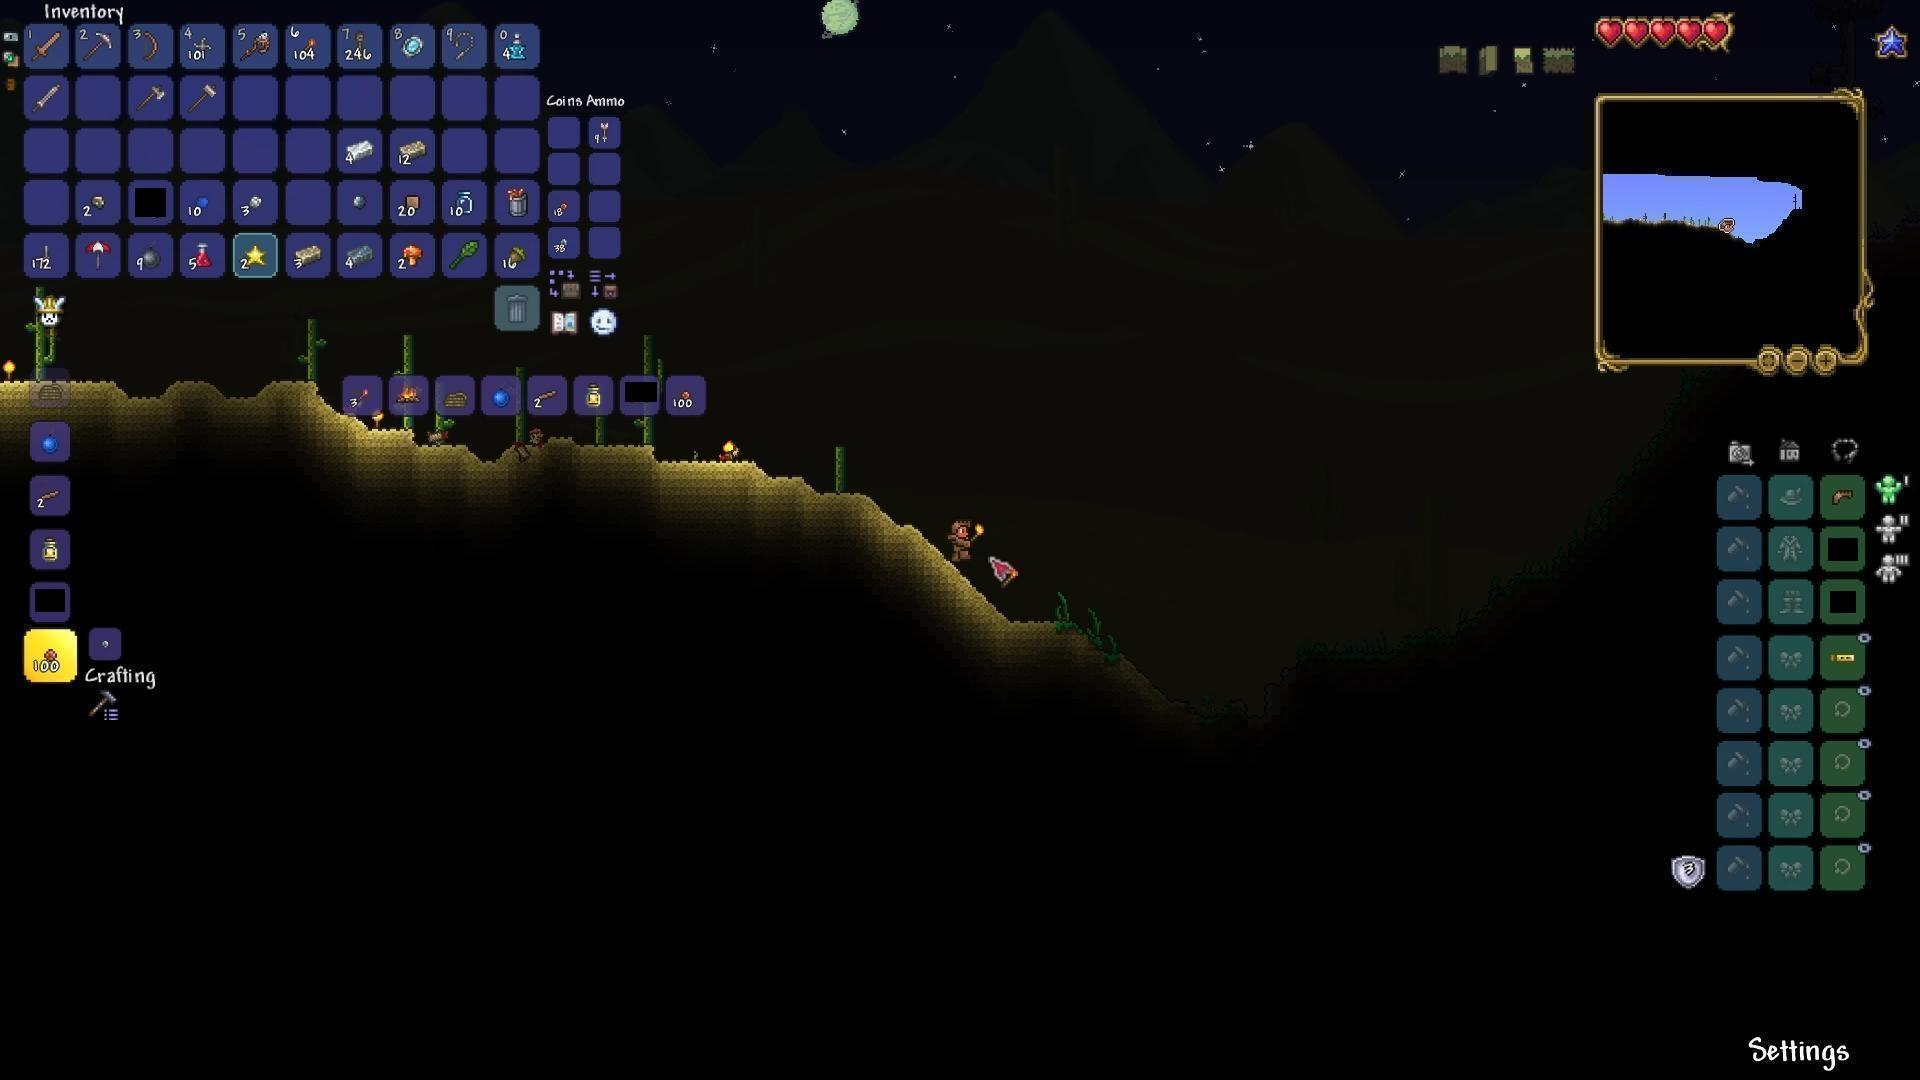helmet: (1832, 491, 1855, 506)
